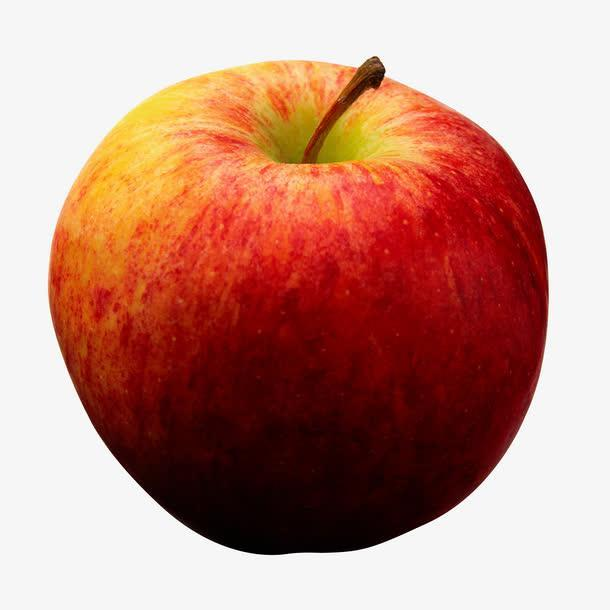apple: (46, 49, 549, 558)
